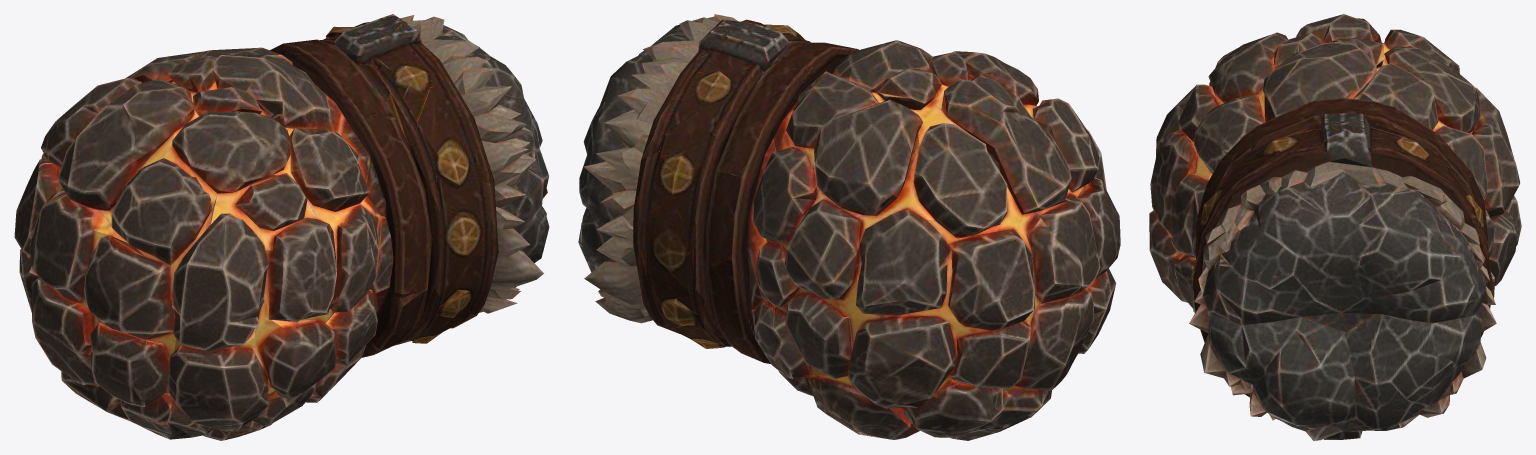
The model's file is rockfist_r.glb.
The picture shows the model from 3 angles, left to right: view 1: azimuth 30°, elevation 25°; view 2: azimuth 150°, elevation 25°; view 3: azimuth 270°, elevation 25°; orthographic projection. The views are drawn at different scales.
Size of the model in its own units: 0.5237 by 0.3789 by 0.3784.
Materials: 1 (1 with a texture image).
